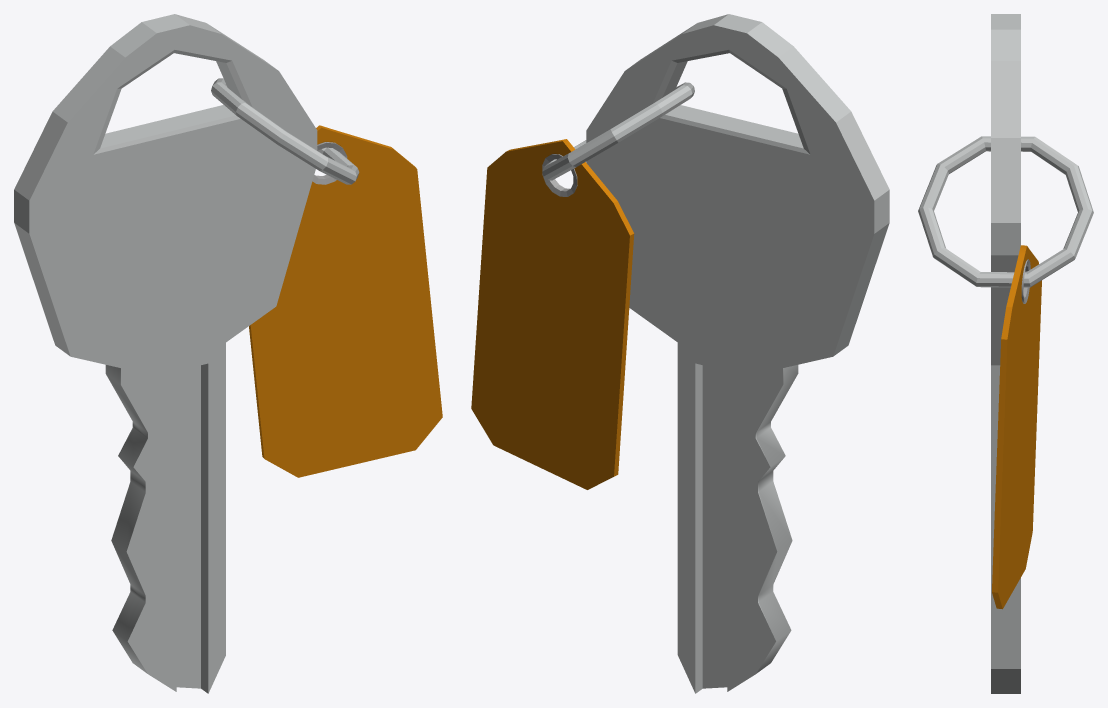
File: Key.fbx
The picture shows the model from 3 angles, left to right: view 1: azimuth 30°, elevation 25°; view 2: azimuth 150°, elevation 25°; view 3: azimuth 270°, elevation 25°; orthographic projection. The views are drawn at different scales.
Visible parts, largest first — view 1: Simple_02, Tag7, Ring3; view 2: Simple_02, Tag7, Ring3; view 3: Simple_02, Tag7, Ring3.
Boxes of the visible parts, x1,y1,x2,y2 form: Simple_02: (14, 14, 317, 693); Tag7: (249, 125, 442, 477); Ring3: (211, 78, 359, 184); Simple_02: (586, 14, 889, 693); Tag7: (471, 139, 634, 489); Ring3: (542, 82, 694, 180); Simple_02: (991, 14, 1020, 693); Tag7: (992, 245, 1041, 609); Ring3: (918, 136, 1093, 287).
Bounding box in the file's own units: 42.1 × 65.29 × 15.88.
4 materials, 3 textured.
